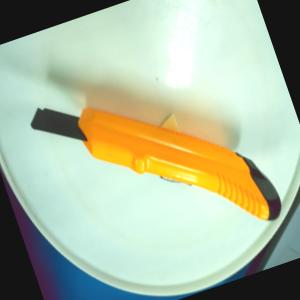estilete: (24, 41, 286, 285)
